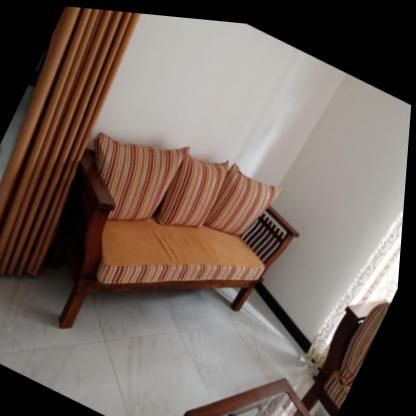Ceramic floor: (0, 263, 319, 416)
Curtains: (0, 5, 139, 278), (310, 200, 406, 361)
Sofa: (5, 94, 318, 405)
